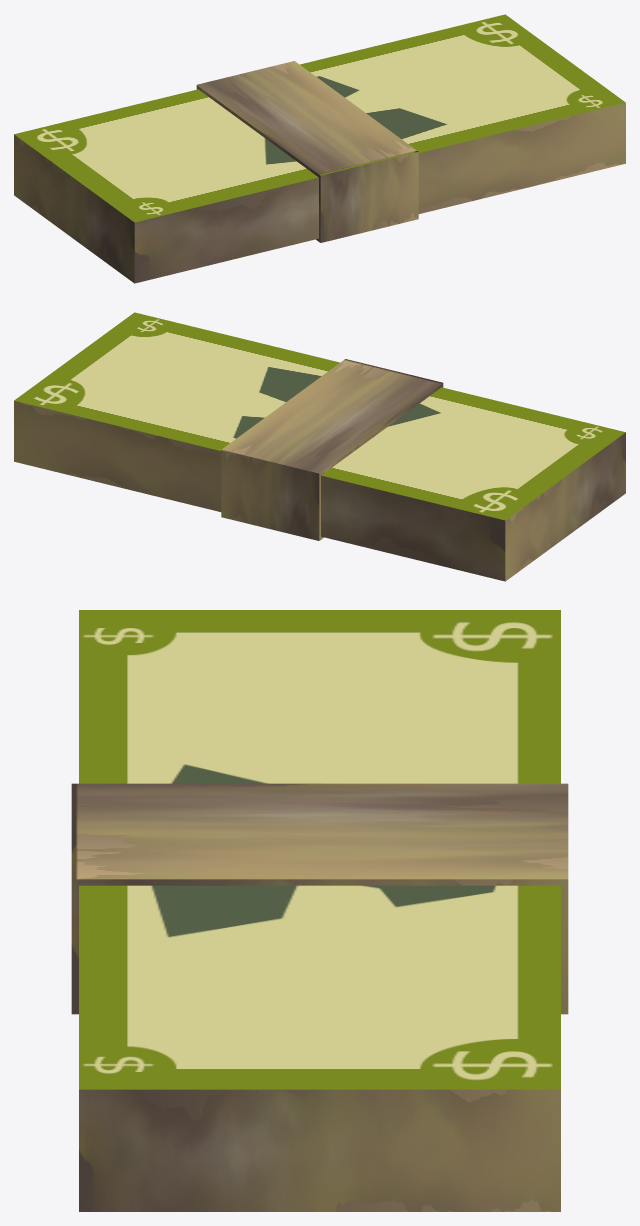
File: dollarStackDouble.fbx
3 views of the same model, one above another, from view 1: azimuth 30°, elevation 25°; view 2: azimuth 150°, elevation 25°; view 3: azimuth 270°, elevation 25° (orthographic). The views are drawn at different scales.
Visible parts, largest first — view 1: Cube, Cube.001; view 2: Cube, Cube.001; view 3: Cube, Cube.001.
Part boxes in pixels (x1=…): Cube: x1=14, y1=14, x2=625, y2=283; Cube.001: x1=196, y1=61, x2=418, y2=242; Cube: x1=14, y1=312, x2=625, y2=581; Cube.001: x1=221, y1=359, x2=443, y2=540; Cube: x1=79, y1=610, x2=560, y2=1211; Cube.001: x1=71, y1=783, x2=568, y2=1014.
Size of the model in its own units: 16 by 2.1 by 7.
